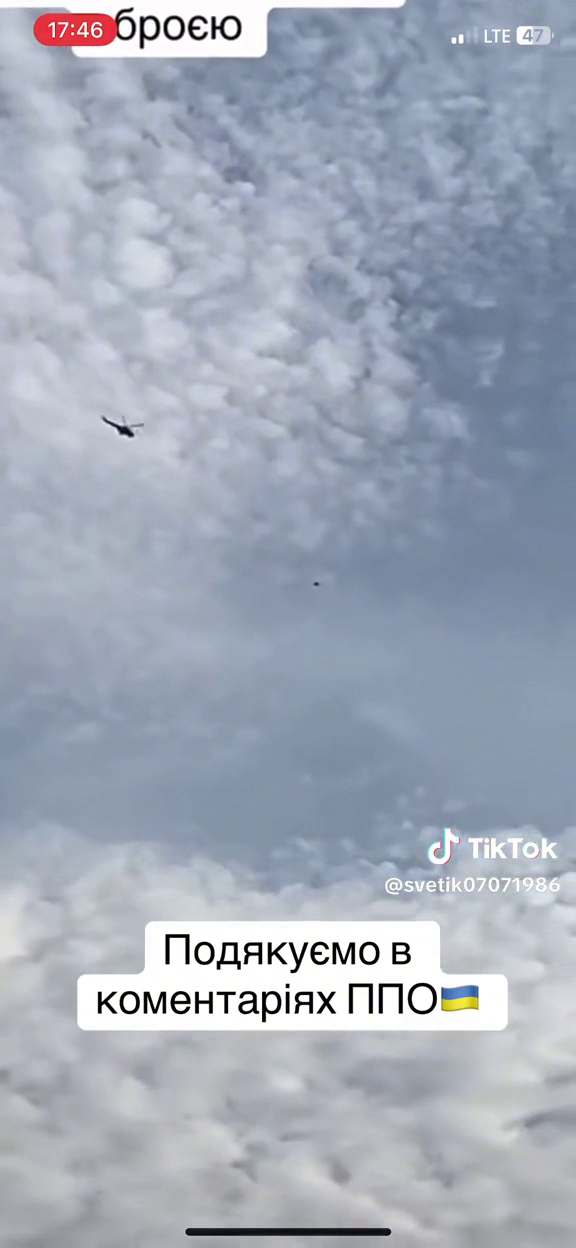not_drone: (99, 412, 148, 442)
